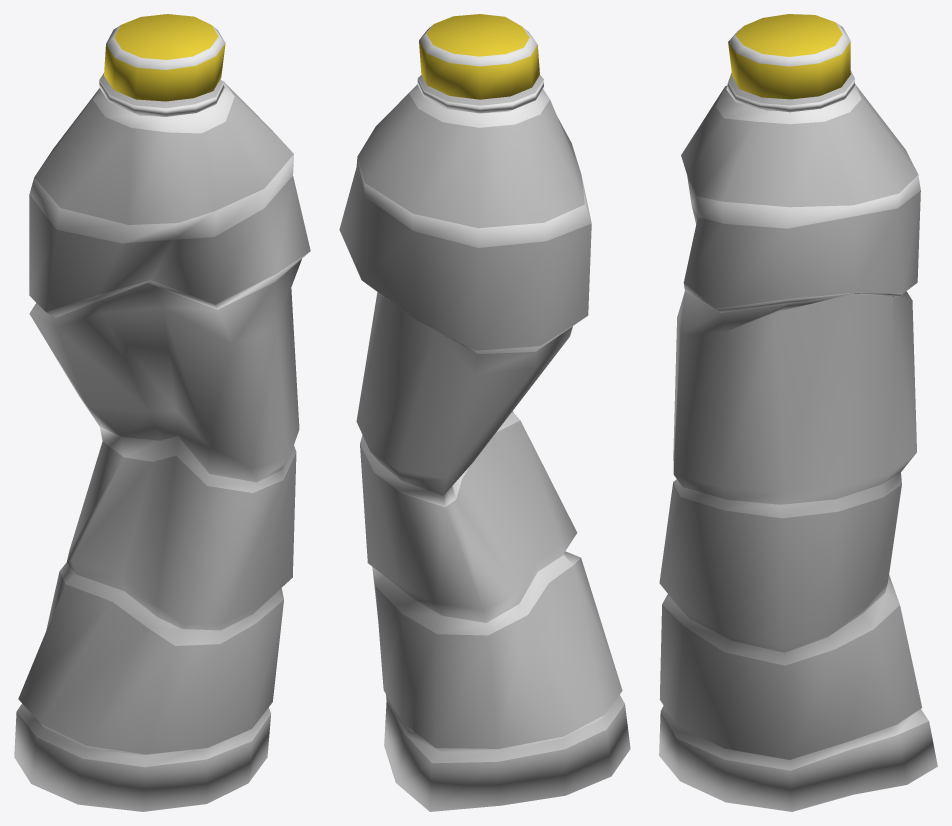
The model's file is plastic bottle.fbx.
3 views of the same model, side by side, from view 1: azimuth 30°, elevation 25°; view 2: azimuth 150°, elevation 25°; view 3: azimuth 270°, elevation 25° (orthographic). The views are drawn at different scales.
Visible parts, largest first — view 1: Plastic bottle; view 2: Plastic bottle; view 3: Plastic bottle.
Boxes of the visible parts, x1,y1,x2,y2 form: Plastic bottle: (14,14,310,811); Plastic bottle: (339,14,630,811); Plastic bottle: (659,14,937,811).
Bounding box in the file's own units: 21.01 × 56.89 × 19.31.
